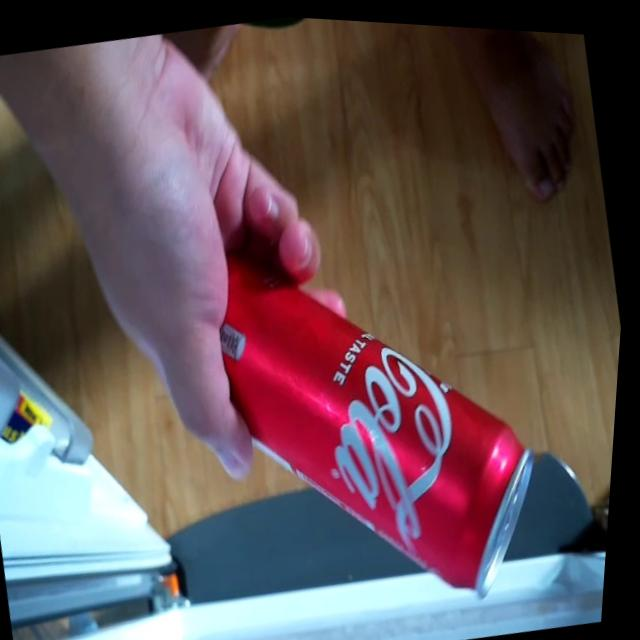coke: (173, 157, 592, 640)
